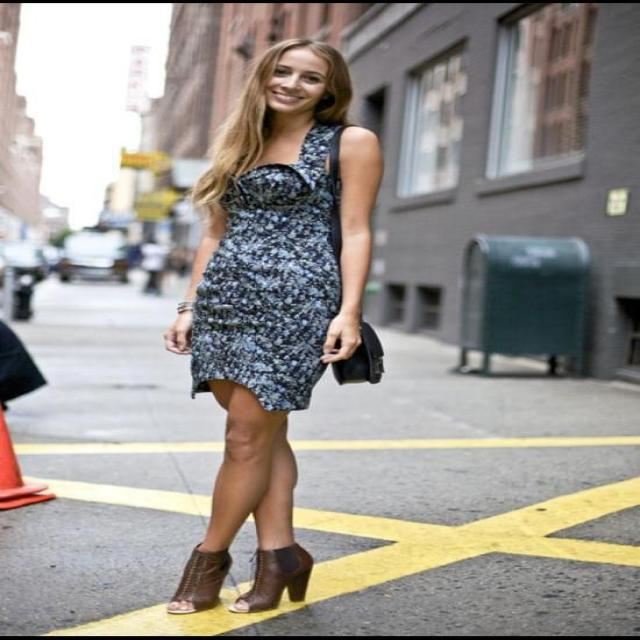dress: (188, 122, 345, 414)
